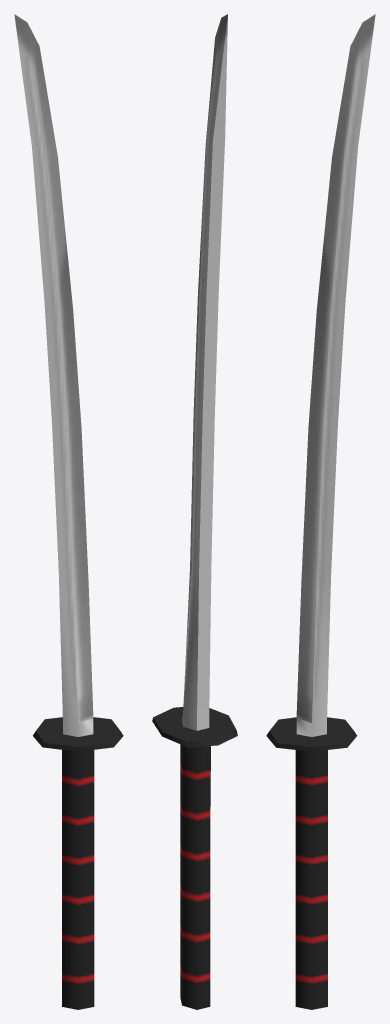
Rendered from KatanaB.fbx.
3 renders of one model, left to right at view 1: azimuth 90°, elevation 25°; view 2: azimuth 210°, elevation 25°; view 3: azimuth 270°, elevation 25°, orthographic. The views are drawn at different scales.
Parts seen in each view (by area): view 1: node_2ef7febf_cd68_49f7_9caf_c7694b0a6780_mesh0; view 2: node_2ef7febf_cd68_49f7_9caf_c7694b0a6780_mesh0; view 3: node_2ef7febf_cd68_49f7_9caf_c7694b0a6780_mesh0.
Boxes of the visible parts, x1,y1,x2,y2 form: node_2ef7febf_cd68_49f7_9caf_c7694b0a6780_mesh0: (14,14,123,1009); node_2ef7febf_cd68_49f7_9caf_c7694b0a6780_mesh0: (152,14,237,1009); node_2ef7febf_cd68_49f7_9caf_c7694b0a6780_mesh0: (266,14,375,1009).
Bounding box in the file's own units: 0.0432 × 0.6268 × 0.0627.
